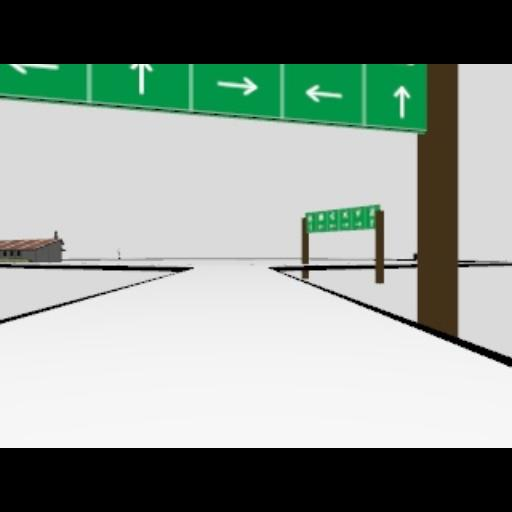Left: (1, 64, 67, 78), (303, 82, 345, 102)
Right: (214, 76, 260, 96)
Straight: (392, 83, 412, 121)
